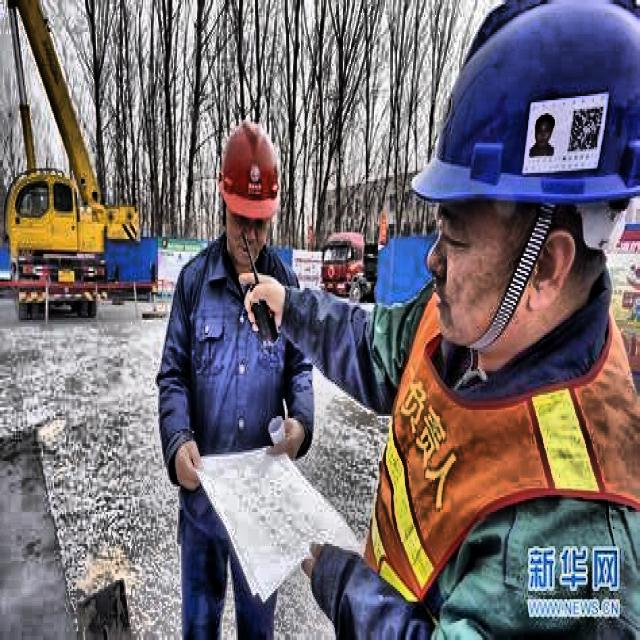helmet: (396, 2, 638, 371), (212, 109, 284, 269)
